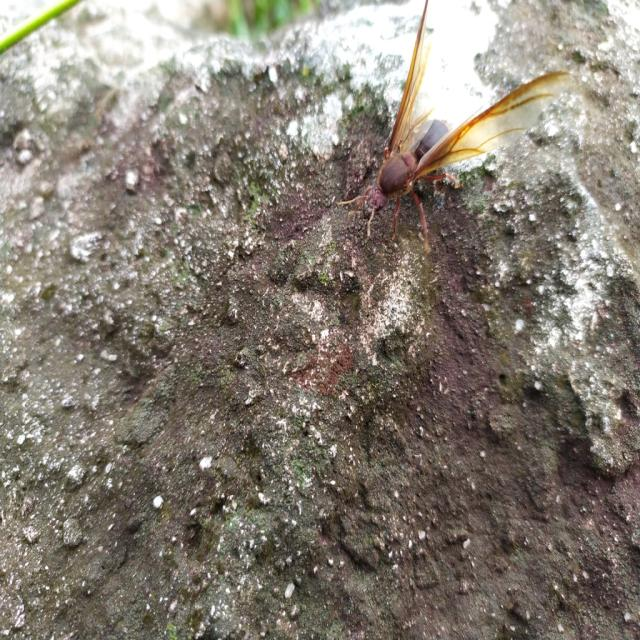Alive-Female-Alate: (336, 0, 574, 254)
